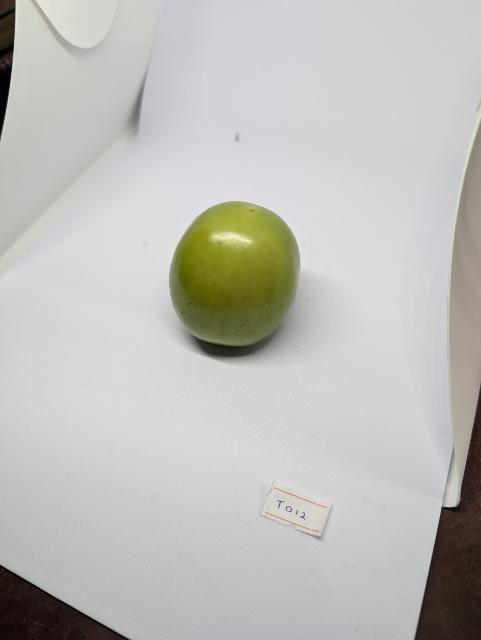green: (167, 200, 305, 350)
